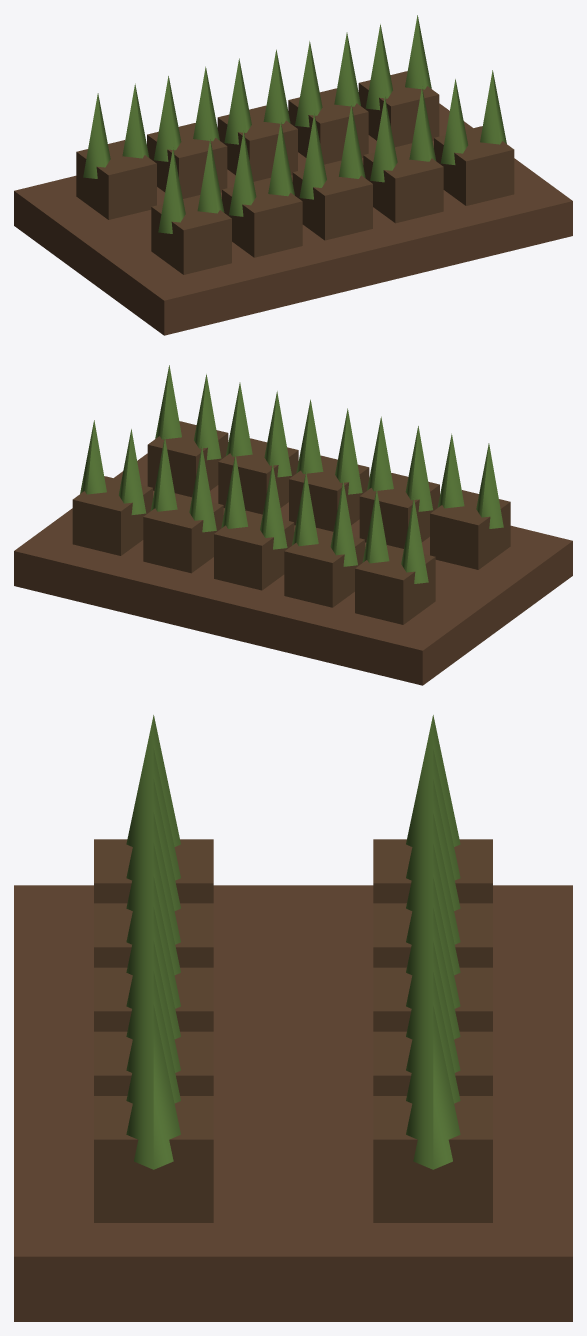
File: orchard_crop_display.glb
3 views of the same model, one above another, from view 1: azimuth 30°, elevation 25°; view 2: azimuth 150°, elevation 25°; view 3: azimuth 270°, elevation 25° (orthographic). The views are drawn at different scales.
Parts seen in each view (by area): view 1: orchard_crop_display_LOD0; view 2: orchard_crop_display_LOD0; view 3: orchard_crop_display_LOD0.
Boxes of the visible parts, x1,y1,x2,y2 form: orchard_crop_display_LOD0: [14, 15, 572, 335]; orchard_crop_display_LOD0: [14, 365, 572, 685]; orchard_crop_display_LOD0: [14, 715, 572, 1321].
Size of what is drawn, in the model's own units: 2.2 by 0.77 by 1.4.
